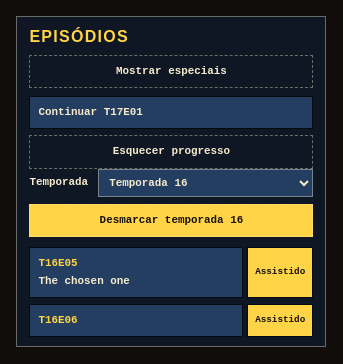
Test: series episode picker › continues across a season boundary and manually toggles the same progress record
Click the button "Continuar T17E01" at (68, 112), box [29, 96, 313, 129]
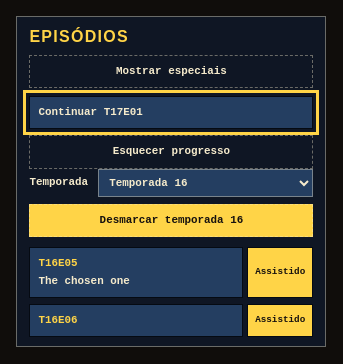
Click the button with aria-label "Assistido T16E05" at (280, 273), box [247, 247, 313, 298]
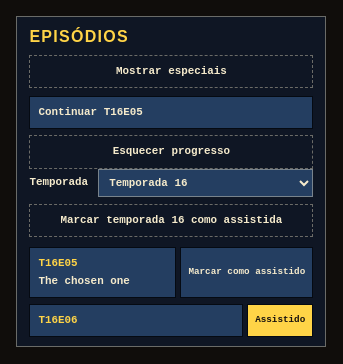
Result: the button with aria-label "Marcar como assistido T16E05" is shown at [180, 247, 314, 298]
